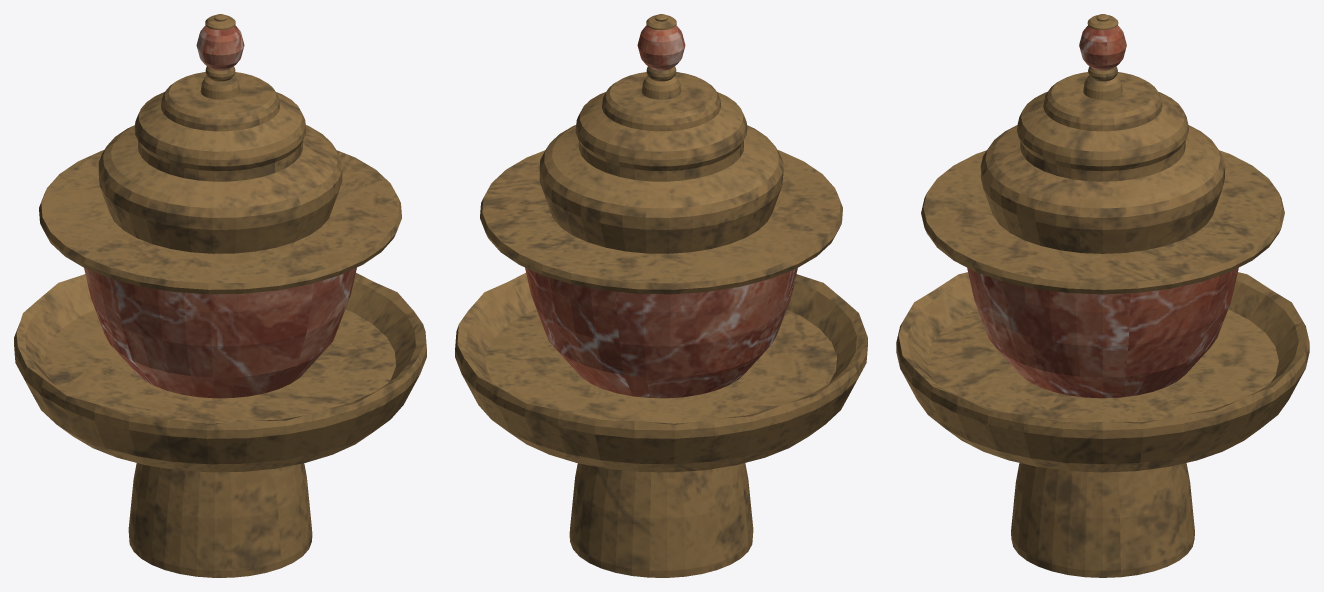
The model's file is Teaset_1_JBischer.fbx.
3 renders of one model, left to right at view 1: azimuth 30°, elevation 25°; view 2: azimuth 150°, elevation 25°; view 3: azimuth 270°, elevation 25°, orthographic.
Visible parts, largest first — view 1: Cylinder; view 2: Cylinder; view 3: Cylinder.
Boxes of the visible parts, bbox=[...] form: Cylinder: bbox=[14, 14, 426, 577]; Cylinder: bbox=[455, 14, 867, 577]; Cylinder: bbox=[896, 14, 1309, 577].
Size of the model in its own units: 337 by 471 by 337.
